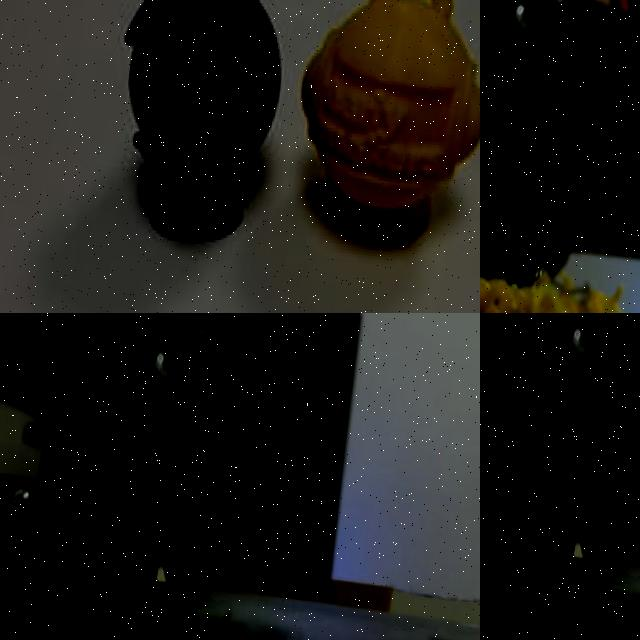spaghetti: (124, 575, 195, 623), (541, 551, 612, 599)
